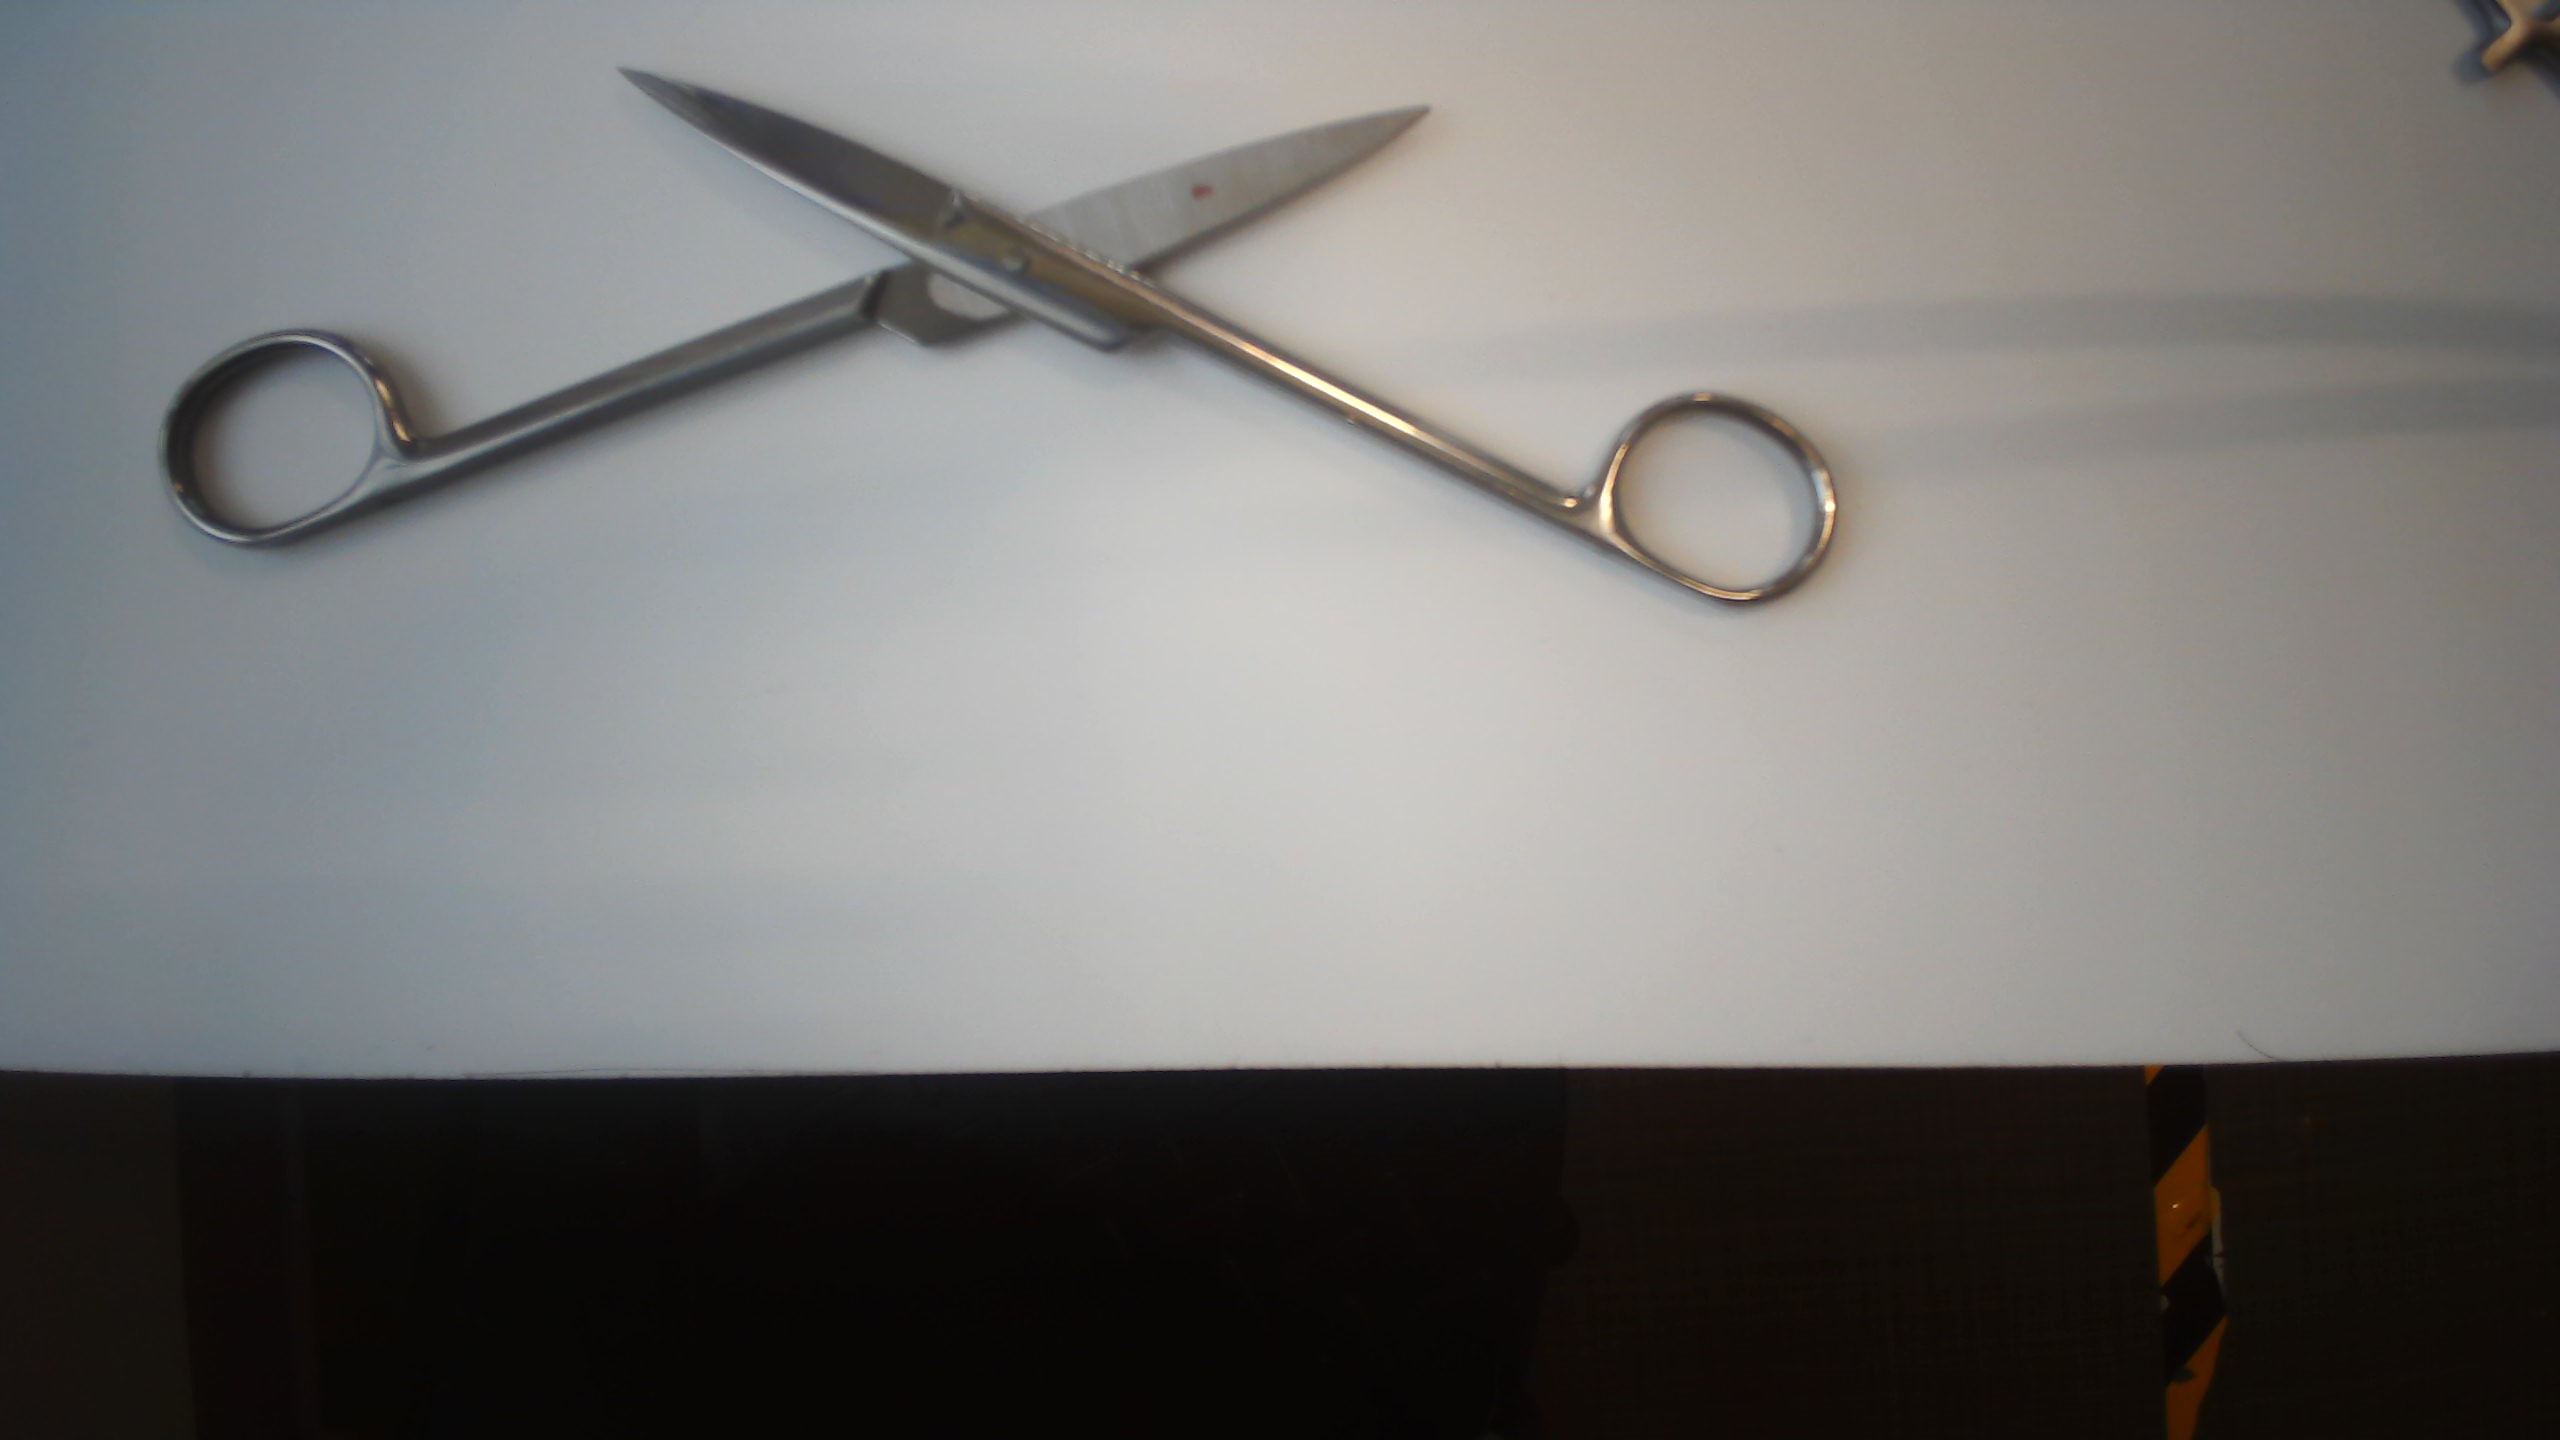Stain: (1176, 183, 1236, 206)
